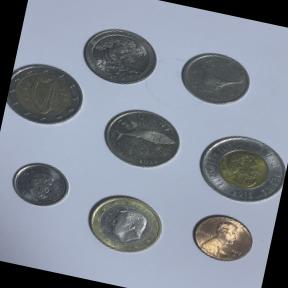coin: (185, 120, 288, 217), (91, 94, 193, 182), (76, 183, 174, 264), (1, 56, 93, 139), (74, 20, 164, 92), (181, 202, 262, 269), (3, 152, 76, 214)
